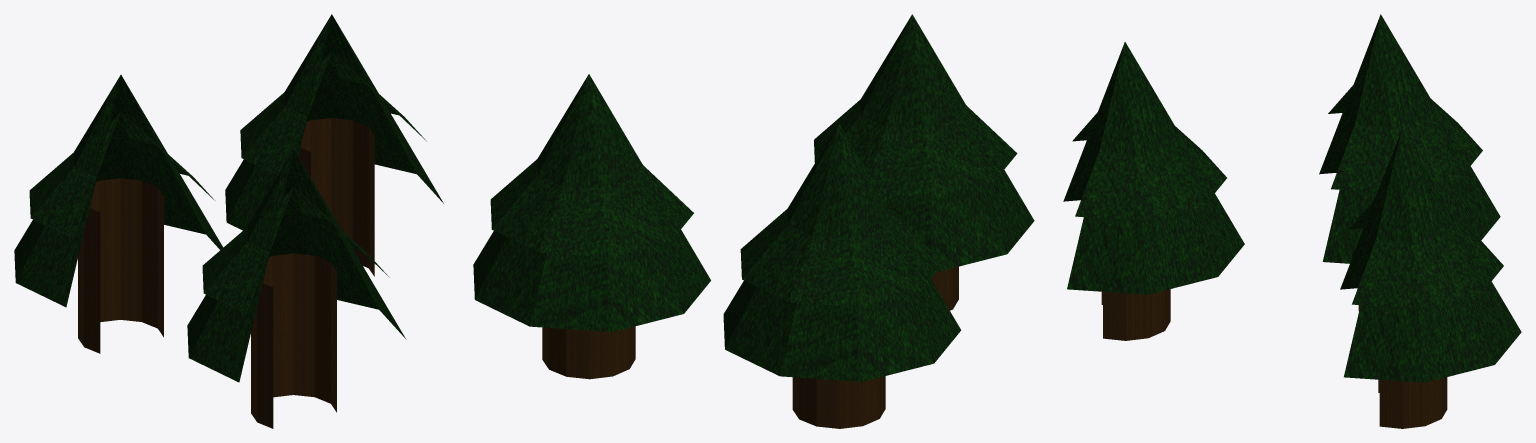
The model's file is Trees.fbx.
3 views of the same model, side by side, from view 1: azimuth 30°, elevation 25°; view 2: azimuth 150°, elevation 25°; view 3: azimuth 270°, elevation 25° (orthographic). The views are drawn at different scales.
Visible parts, largest first — view 1: polySurface1; view 2: polySurface1; view 3: polySurface1.
Boxes of the visible parts, box(x1,y1,x2,y2) form: polySurface1: box(14, 14, 443, 428); polySurface1: box(473, 14, 1034, 428); polySurface1: box(1063, 14, 1521, 428).
Bounding box in the file's own units: 70.16 × 42.92 × 63.42.
